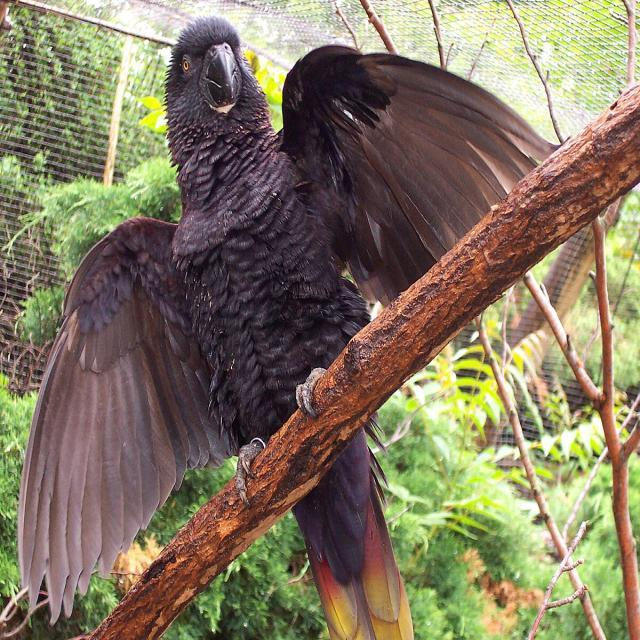Nuri Hitam: (0, 6, 578, 640)
